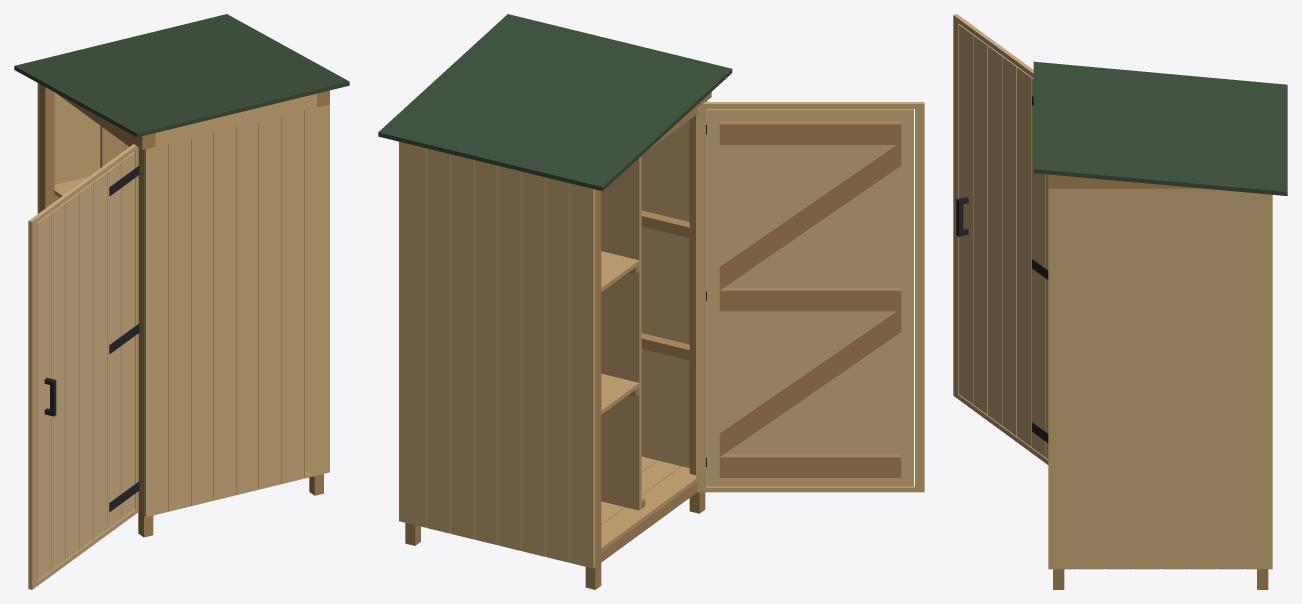
File: meuble-balais.glb
3 renders of one model, left to right at view 1: azimuth 30°, elevation 25°; view 2: azimuth 150°, elevation 25°; view 3: azimuth 270°, elevation 25°, orthographic. The views are drawn at different scales.
Parts seen in each view (by area): view 1: Bardage_Avant, Porte_Vantail, Toit, Porte_Lattes, Montants, Bardage_Arriere, Bandeau_Avant, Bardage_Droit, Porte_Pentures, Chevrons, Cloison; view 2: Bardage_Arriere, Porte_Vantail, Toit, Bardage_Avant, Porte_Barres, Cloison, Porte_Lattes, Porte_Echarpes, Montants, Plancher, Etageres, Traverses_Interm (+2 smaller); view 3: Bardage_Droit, Porte_Vantail, Toit, Porte_Lattes, Chevrons, Montants.
Part boxes in pixels (x1=…): Bardage_Avant: x1=144, y1=105, x2=326, y2=517; Porte_Vantail: x1=37, y1=151, x2=135, y2=580; Toit: x1=14, y1=14, x2=349, y2=137; Porte_Lattes: x1=28, y1=144, x2=138, y2=589; Montants: x1=40, y1=84, x2=323, y2=537; Bardage_Arriere: x1=37, y1=83, x2=100, y2=213; Bandeau_Avant: x1=155, y1=93, x2=316, y2=146; Bardage_Droit: x1=326, y1=104, x2=329, y2=473; Porte_Pentures: x1=109, y1=166, x2=139, y2=511; Chevrons: x1=90, y1=90, x2=329, y2=149; Cloison: x1=100, y1=126, x2=128, y2=167; Bardage_Arriere: x1=403, y1=142, x2=595, y2=568; Porte_Vantail: x1=707, y1=109, x2=913, y2=486; Toit: x1=378, y1=14, x2=732, y2=191; Bardage_Avant: x1=641, y1=100, x2=707, y2=485; Porte_Barres: x1=719, y1=121, x2=901, y2=477; Cloison: x1=601, y1=156, x2=641, y2=510; Porte_Lattes: x1=696, y1=102, x2=924, y2=492; Porte_Echarpes: x1=719, y1=145, x2=901, y2=456; Montants: x1=405, y1=115, x2=705, y2=589; Plancher: x1=601, y1=456, x2=697, y2=551; Etageres: x1=601, y1=251, x2=639, y2=414; Traverses_Interm: x1=641, y1=210, x2=689, y2=360; Bardage_Droit: x1=1048, y1=188, x2=1272, y2=569; Porte_Vantail: x1=958, y1=24, x2=1048, y2=459; Toit: x1=1033, y1=61, x2=1287, y2=195; Porte_Lattes: x1=953, y1=14, x2=1048, y2=464; Chevrons: x1=1048, y1=174, x2=1202, y2=188; Montants: x1=1053, y1=569, x2=1268, y2=589.
Size of the model in its own units: 1.72 by 1.9 by 1.34.
